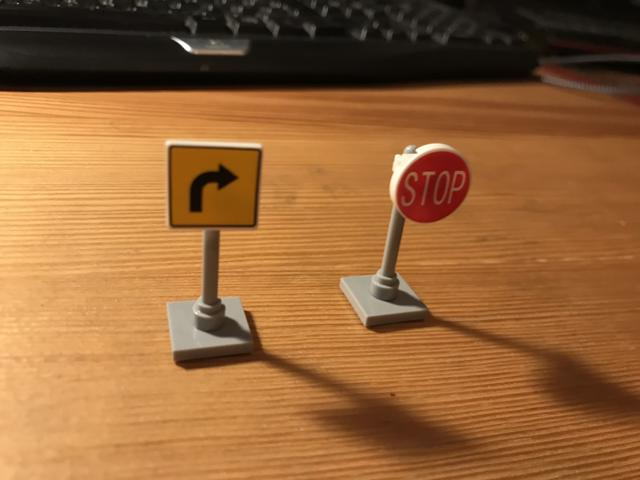fahrtrichtung rechts: (164, 138, 263, 233)
stop: (392, 144, 472, 226)
